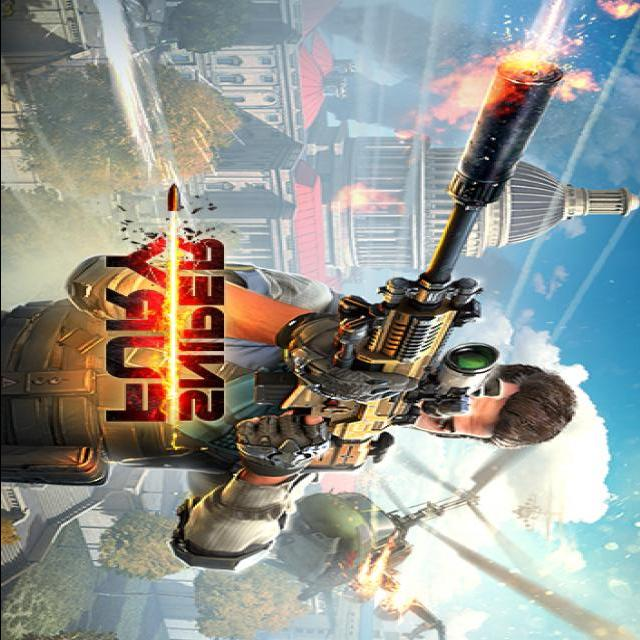scope: (419, 342, 502, 424)
sniper rifle: (253, 59, 569, 480)
